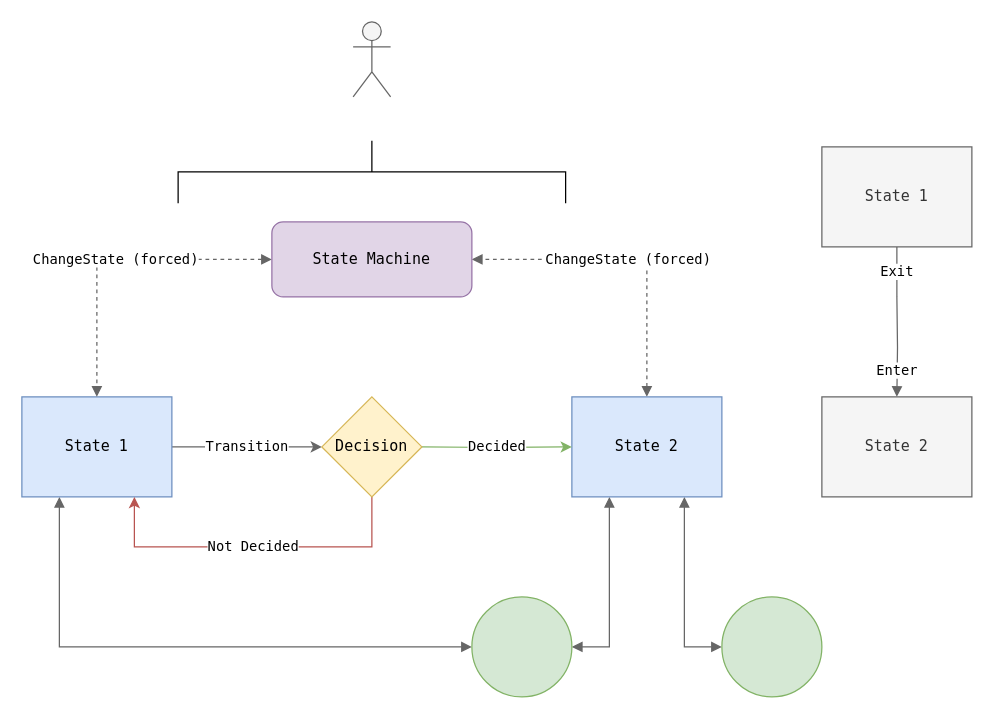
The diagram is 994 pixels wide and 719 high, and some of its shapes have lost their labels. The shapes that lost their labels are listed below. From the top down, each one's box as (x1, y1, x2, y2) in pixels, then its label:
(352, 21, 391, 97): Owner
(471, 596, 572, 697): Action 1
(721, 596, 822, 697): Action 2
